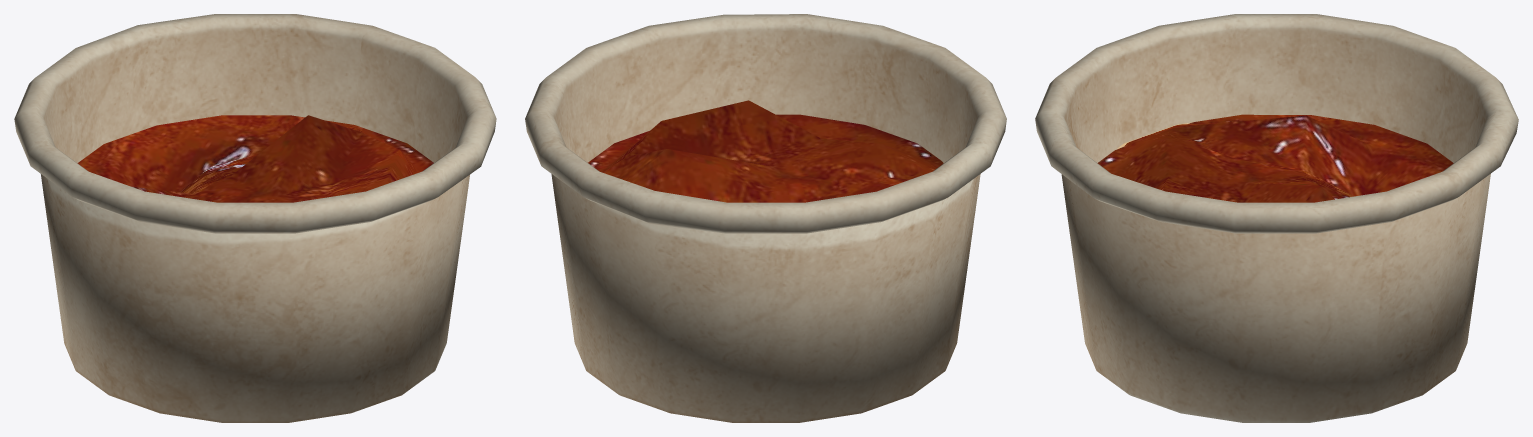
The model's file is bbq.glb.
3 renders of one model, left to right at view 1: azimuth 30°, elevation 25°; view 2: azimuth 150°, elevation 25°; view 3: azimuth 270°, elevation 25°, orthographic.
Parts seen in each view (by area): view 1: Sauce_ranch_sauceMaterial_0; view 2: Sauce_ranch_sauceMaterial_0; view 3: Sauce_ranch_sauceMaterial_0.
Part boxes in pixels (x1=…): Sauce_ranch_sauceMaterial_0: x1=14, y1=14, x2=496, y2=422; Sauce_ranch_sauceMaterial_0: x1=525, y1=14, x2=1006, y2=422; Sauce_ranch_sauceMaterial_0: x1=1035, y1=14, x2=1518, y2=422.
Bounding box in the file's own units: 1.49 × 0.806 × 1.51.
1 material, 1 textured.
